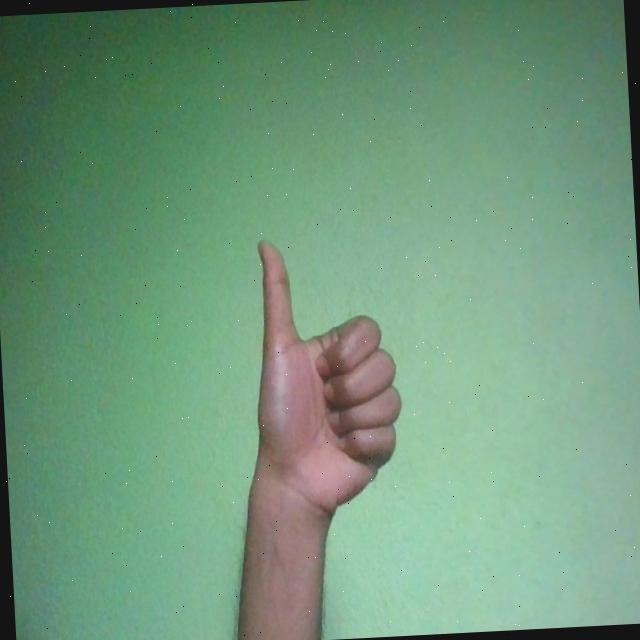Good Job: (248, 234, 410, 526)
